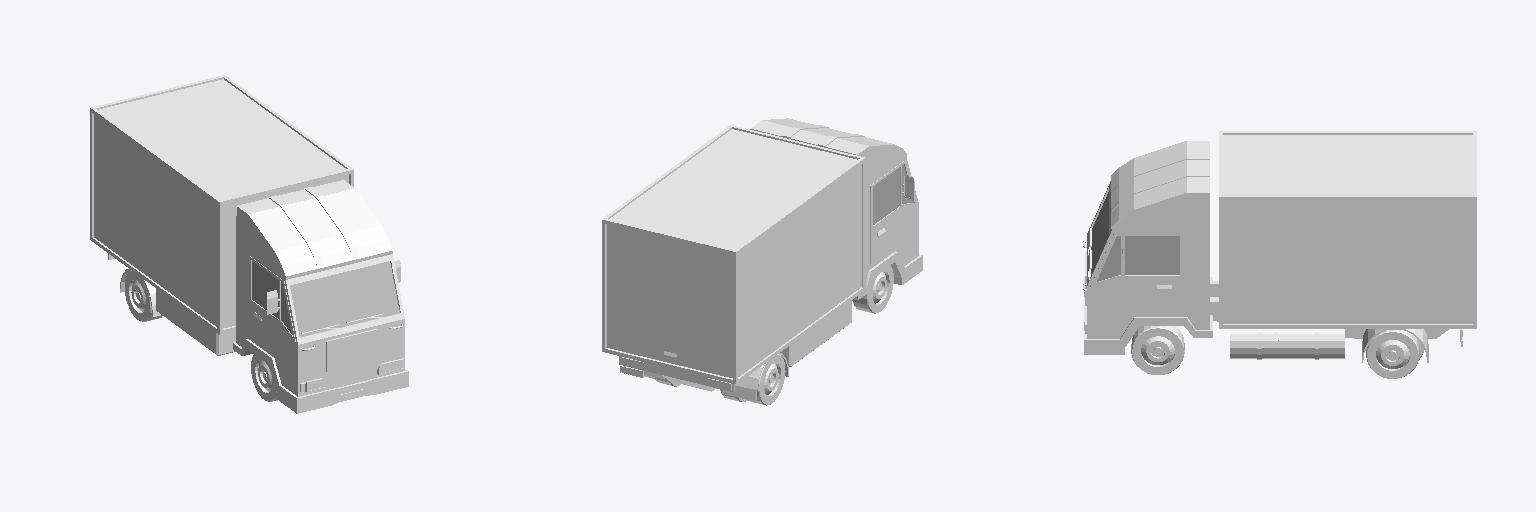
File: truck_gray.obj
3 renders of one model, left to right at view 1: azimuth 30°, elevation 25°; view 2: azimuth 150°, elevation 25°; view 3: azimuth 270°, elevation 25°, orthographic.
Parts seen in each view (by area): view 1: 1_Mesh.010, cabin_Mesh.021, Cube_Mesh.003, Cube.001_Cube, front_wheel_2.003_Mesh.040, front_wheel_2.001_Mesh.038; view 2: 1_Mesh.010, cabin_Mesh.021, Cube_Mesh.003, front_wheel_2.001_Mesh.038, front_wheel_2.003_Mesh.040, 1_2_Mesh.015, back_bumper_Mesh.008; view 3: 1_Mesh.010, cabin_Mesh.021, fuel_reservior_Mesh.006, front_wheel_2_Mesh.020, front_wheel_2.002_Mesh.039, 1_2_Mesh.015.
Part boxes in pixels (x1,y1,x2,y2): 1_Mesh.010: (90, 75, 353, 334); cabin_Mesh.021: (233, 180, 408, 413); Cube_Mesh.003: (156, 289, 235, 355); Cube.001_Cube: (326, 329, 377, 371); front_wheel_2.003_Mesh.040: (125, 270, 162, 321); front_wheel_2.001_Mesh.038: (251, 354, 277, 401); 1_Mesh.010: (602, 125, 865, 383); cabin_Mesh.021: (662, 118, 922, 391); Cube_Mesh.003: (780, 300, 851, 366); front_wheel_2.001_Mesh.038: (852, 265, 893, 313); front_wheel_2.003_Mesh.040: (748, 354, 785, 405); 1_2_Mesh.015: (634, 353, 788, 401); back_bumper_Mesh.008: (619, 356, 734, 391); 1_Mesh.010: (1219, 131, 1476, 328); cabin_Mesh.021: (1084, 141, 1448, 354); fuel_reservior_Mesh.006: (1230, 329, 1344, 359); front_wheel_2_Mesh.020: (1131, 326, 1184, 374); front_wheel_2.002_Mesh.039: (1366, 330, 1419, 378); 1_2_Mesh.015: (1362, 329, 1428, 362).
Bounding box in the file's own units: 0.2011 × 0.262 × 0.5076.